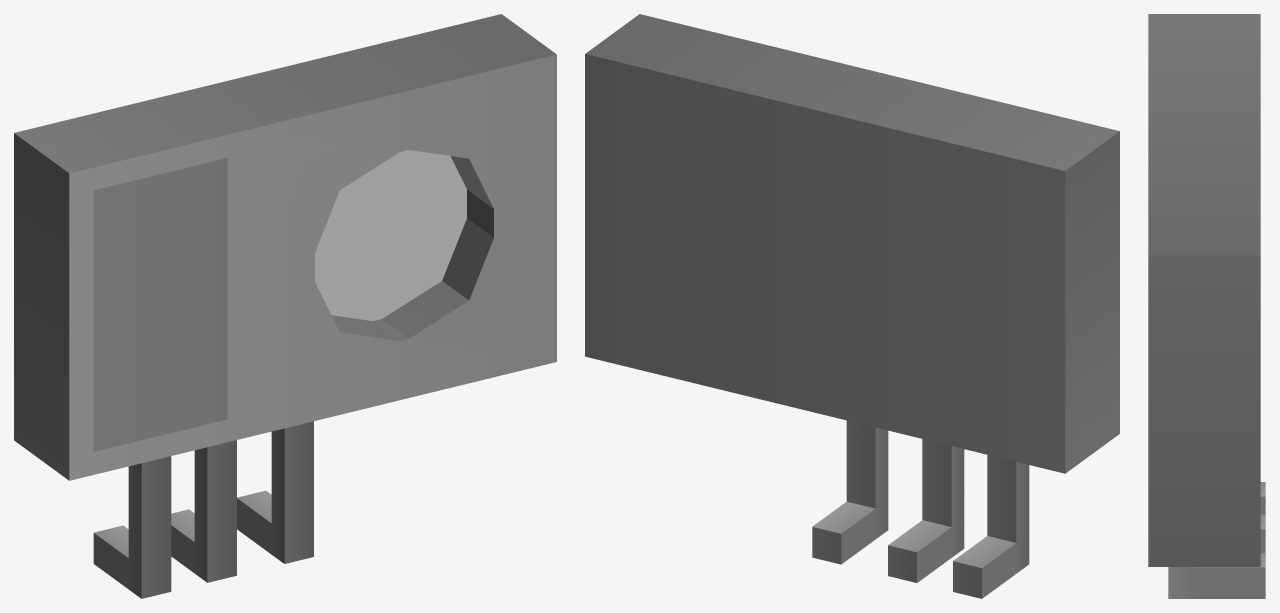
The model's file is B02_erco.fbx.
The picture shows the model from 3 angles, left to right: view 1: azimuth 30°, elevation 25°; view 2: azimuth 150°, elevation 25°; view 3: azimuth 270°, elevation 25°; orthographic projection. The views are drawn at different scales.
Visible parts, largest first — view 1: B02_erco; view 2: B02_erco; view 3: B02_erco.
Part boxes in pixels (box(x1,y1,x2,y2)): B02_erco: box(14, 14, 556, 598); B02_erco: box(585, 14, 1119, 598); B02_erco: box(1148, 14, 1265, 598).
Bounding box in the file's own units: 205 × 182 × 42.09.
